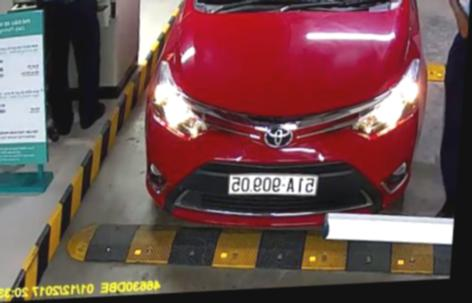License_Plate: (225, 167, 323, 197)
